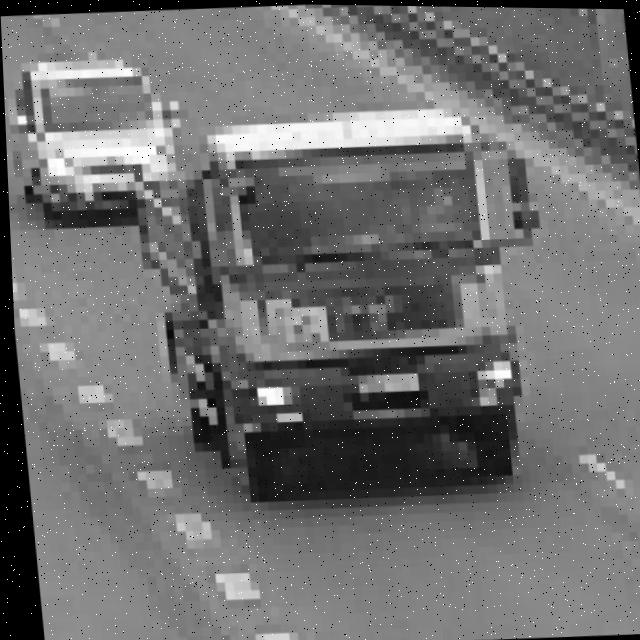truck: (168, 83, 561, 482)
